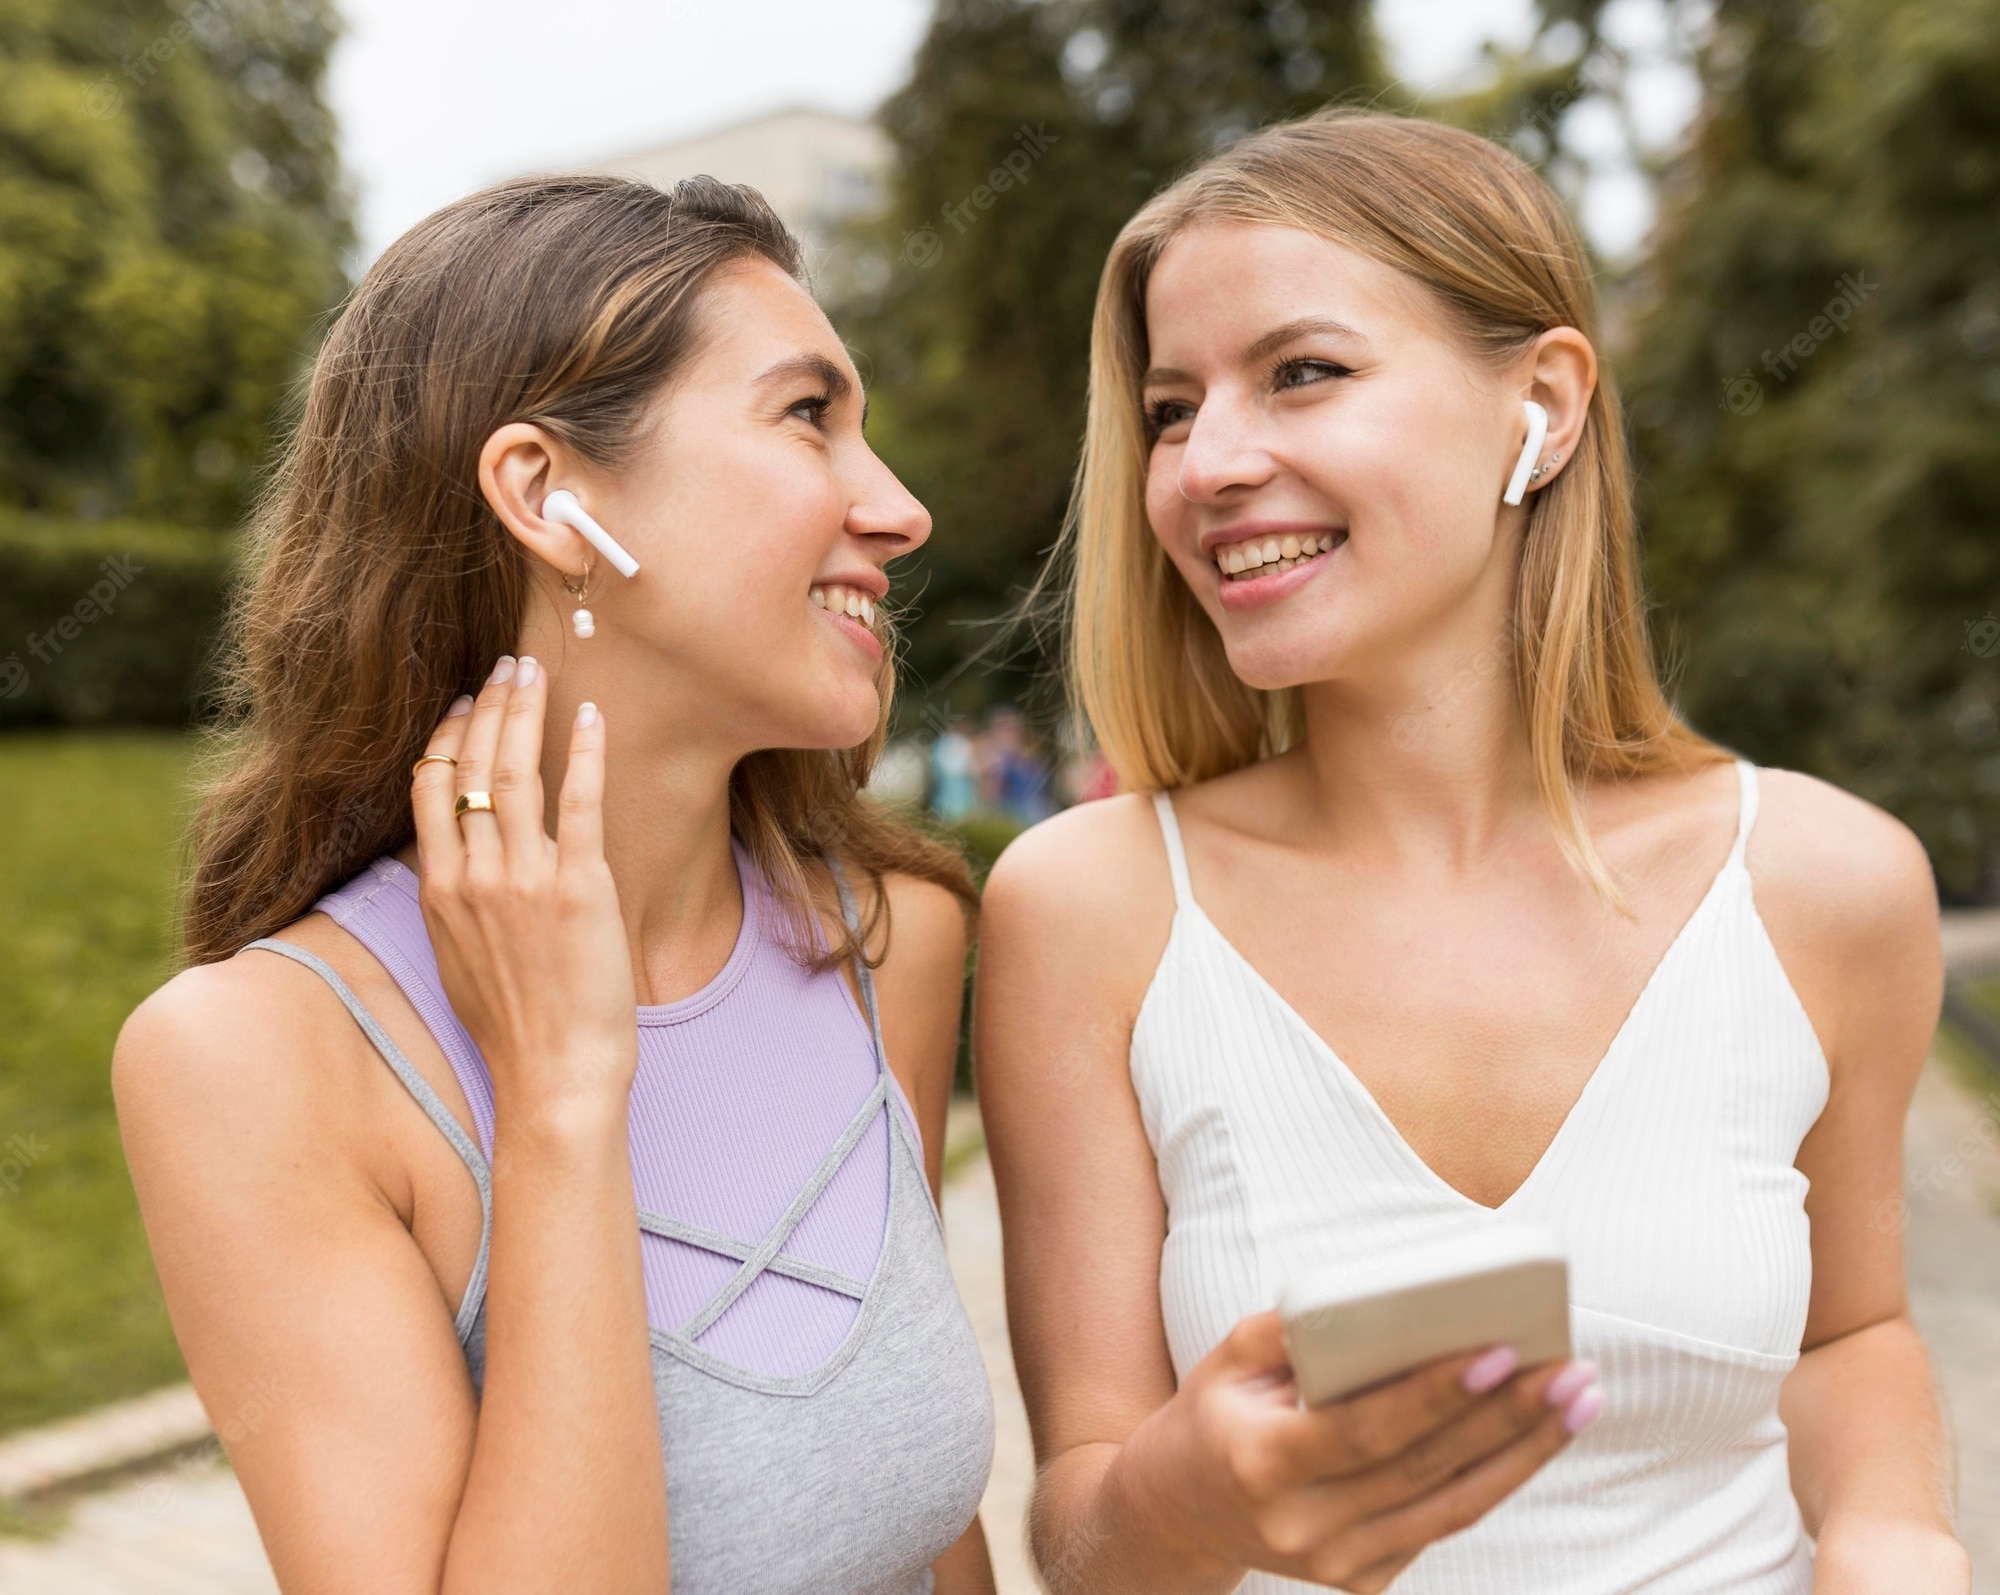earphone: (478, 422, 610, 579), (1499, 324, 1596, 508)
